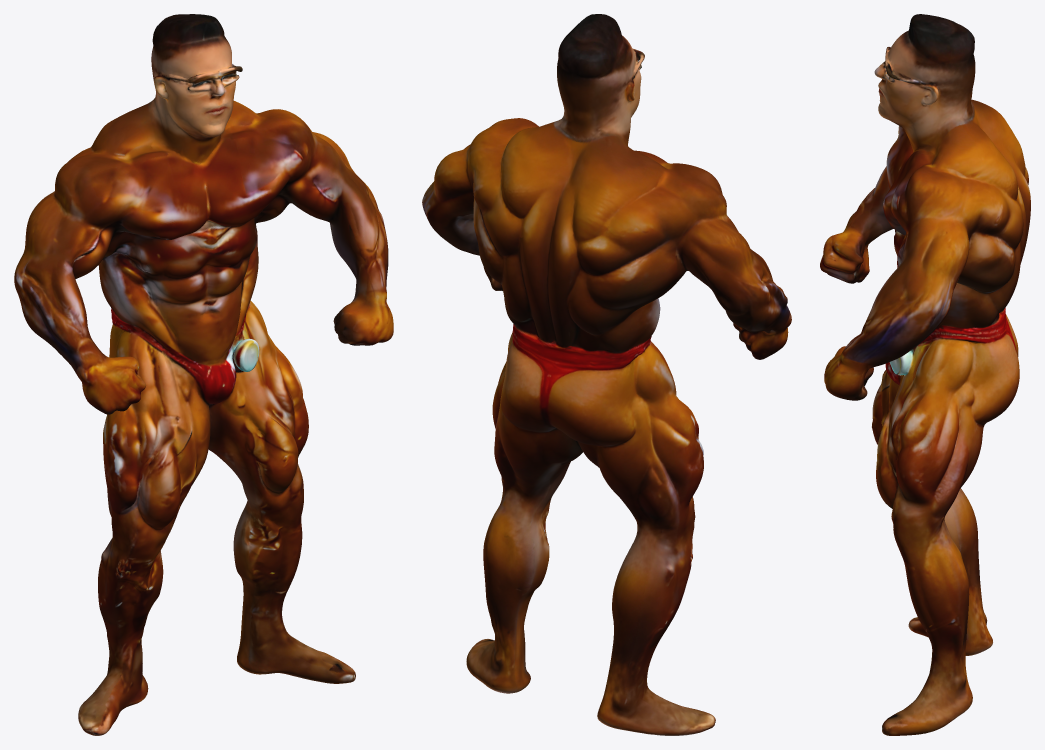
The model's file is lowpoly-front-standing.glb.
The picture shows the model from 3 angles, left to right: view 1: azimuth 30°, elevation 25°; view 2: azimuth 150°, elevation 25°; view 3: azimuth 270°, elevation 25°; orthographic projection. The views are drawn at different scales.
Visible parts, largest first — view 1: tripo_node_71e232aa-54ad-4fdb-b3b2-a9c28f43193d; view 2: tripo_node_71e232aa-54ad-4fdb-b3b2-a9c28f43193d; view 3: tripo_node_71e232aa-54ad-4fdb-b3b2-a9c28f43193d.
Part boxes in pixels (box(x1,y1,x2,y2)): tripo_node_71e232aa-54ad-4fdb-b3b2-a9c28f43193d: box(14, 14, 393, 735); tripo_node_71e232aa-54ad-4fdb-b3b2-a9c28f43193d: box(422, 14, 791, 735); tripo_node_71e232aa-54ad-4fdb-b3b2-a9c28f43193d: box(820, 14, 1030, 735).
Size of the model in its own units: 0.5281 by 1 by 0.2893.
1 material, 1 textured.
